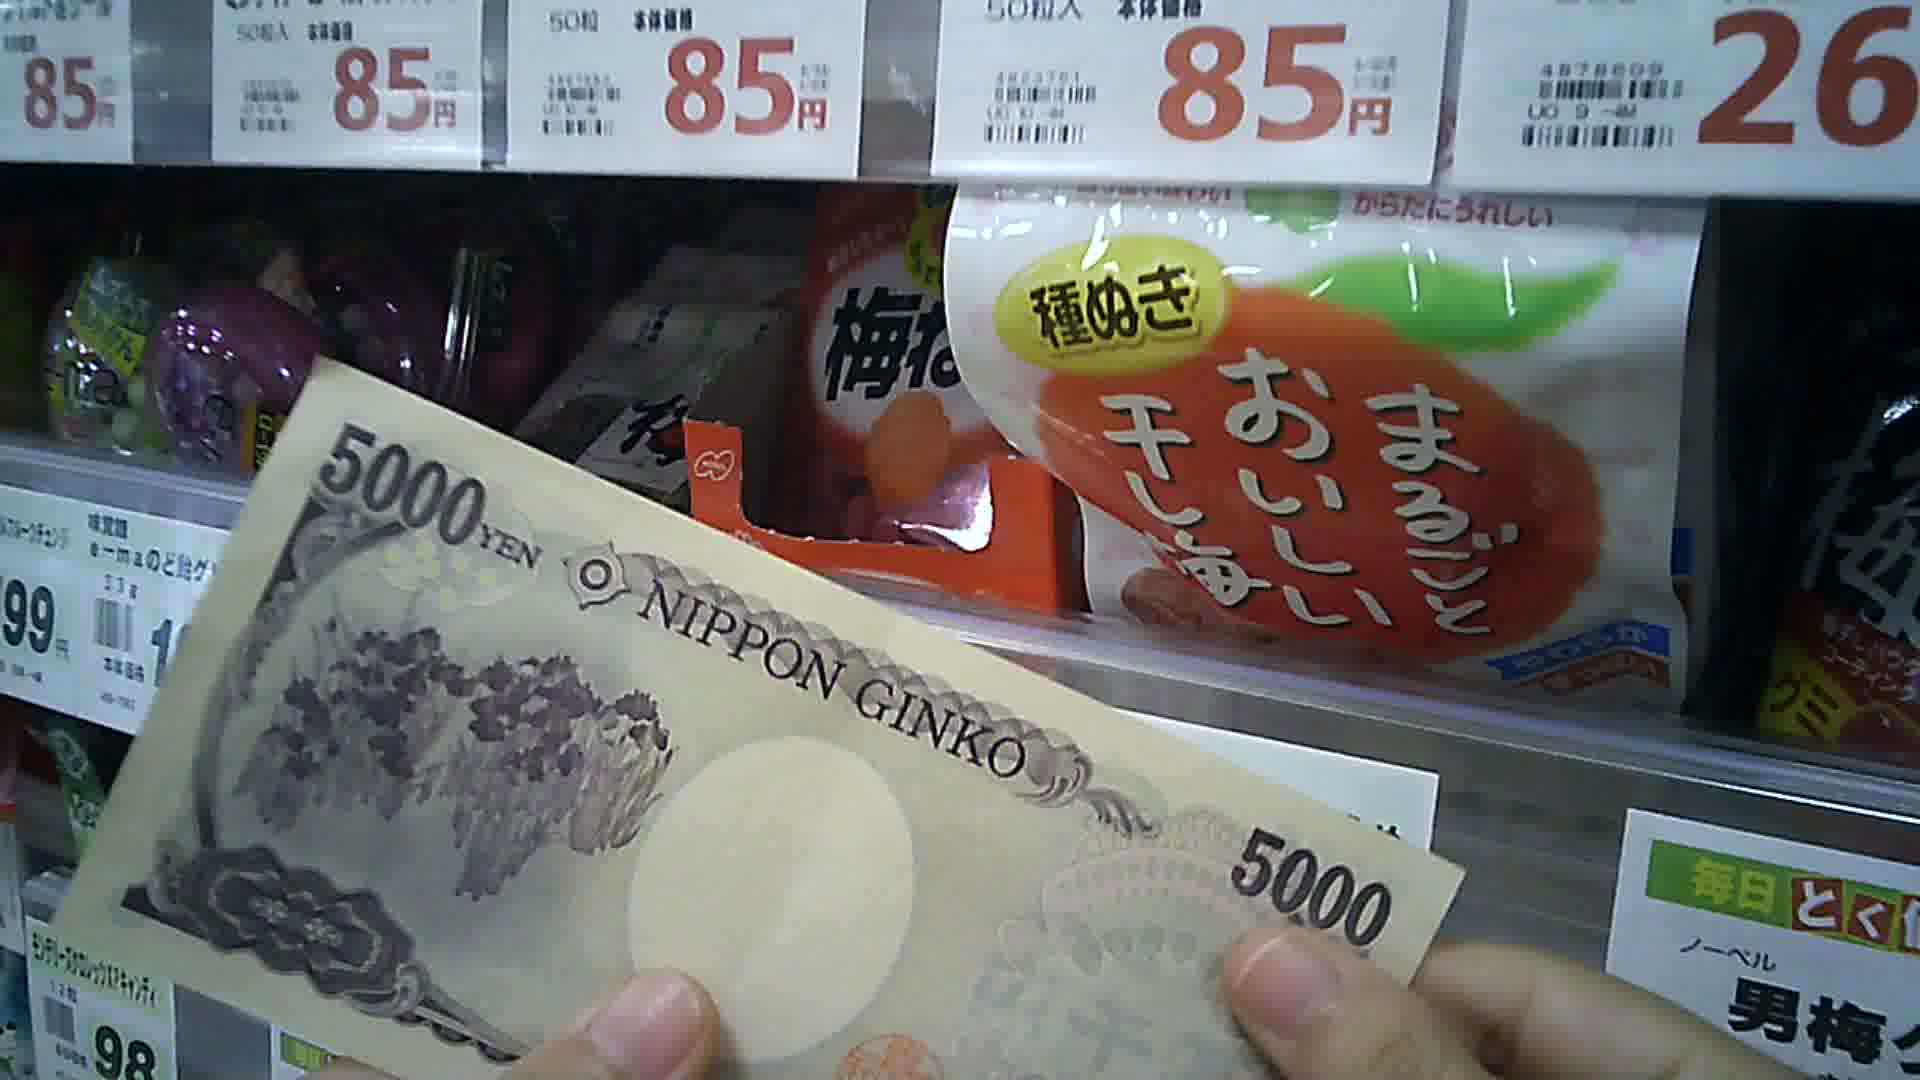5,000 Yen: (86, 334, 1441, 1079)
